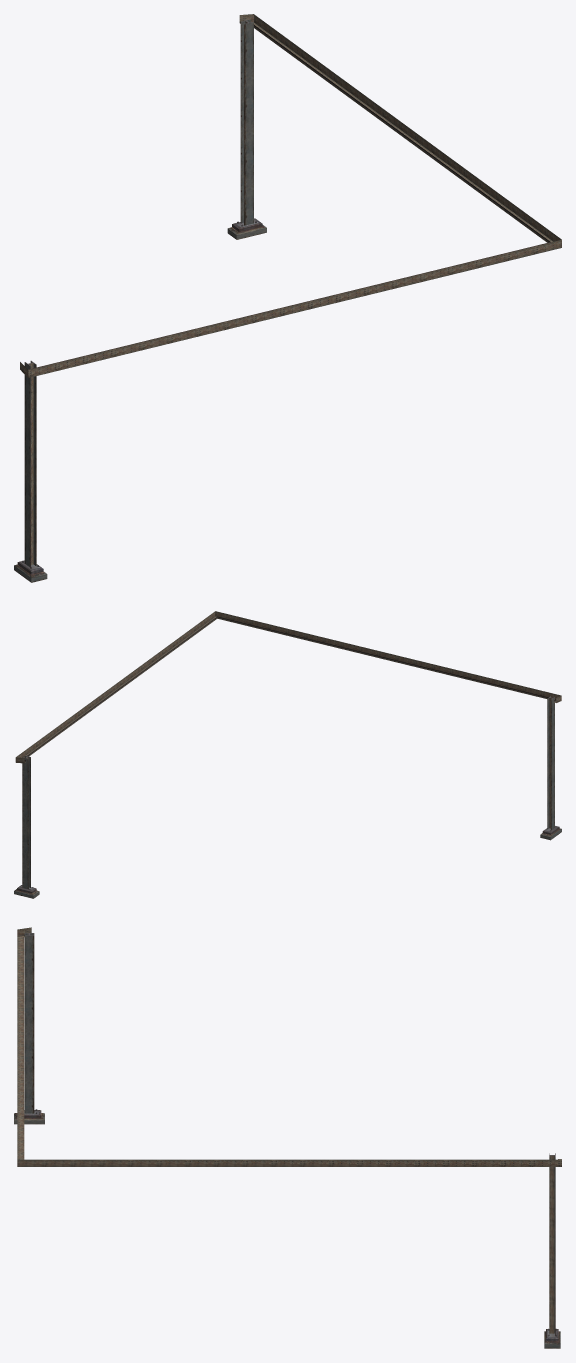
File: warehousebrickc_id_5_metaltrim_dm_0_lev1.glb
3 views of the same model, one above another, from view 1: azimuth 30°, elevation 25°; view 2: azimuth 150°, elevation 25°; view 3: azimuth 270°, elevation 25° (orthographic). The views are drawn at different scales.
Parts seen in each view (by area): view 1: warehousebrickc_id_5_metaltrim_dm_0_lev1; view 2: warehousebrickc_id_5_metaltrim_dm_0_lev1; view 3: warehousebrickc_id_5_metaltrim_dm_0_lev1.
Part boxes in pixels (<box>): warehousebrickc_id_5_metaltrim_dm_0_lev1: <box>14,14,561,582</box>; warehousebrickc_id_5_metaltrim_dm_0_lev1: <box>14,611,561,898</box>; warehousebrickc_id_5_metaltrim_dm_0_lev1: <box>14,927,561,1348</box>.
Size of the model in its own units: 5.95 by 2.27 by 5.95.
Materials: 1 (1 with a texture image).
